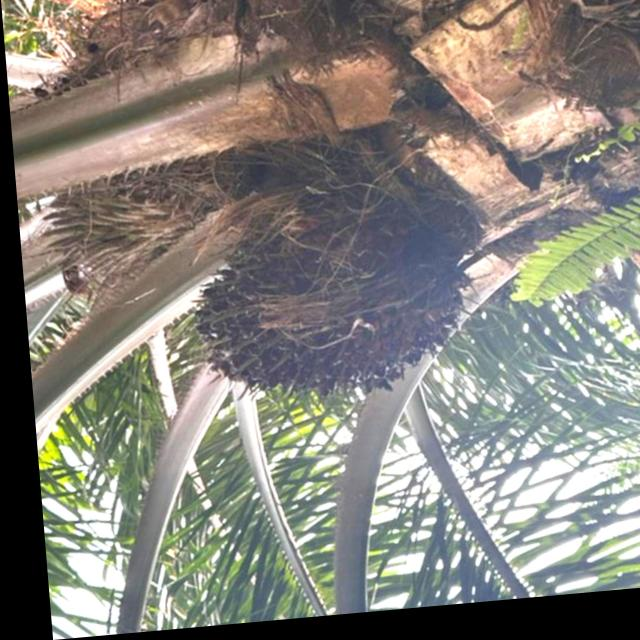ripe: (167, 235, 454, 415)
